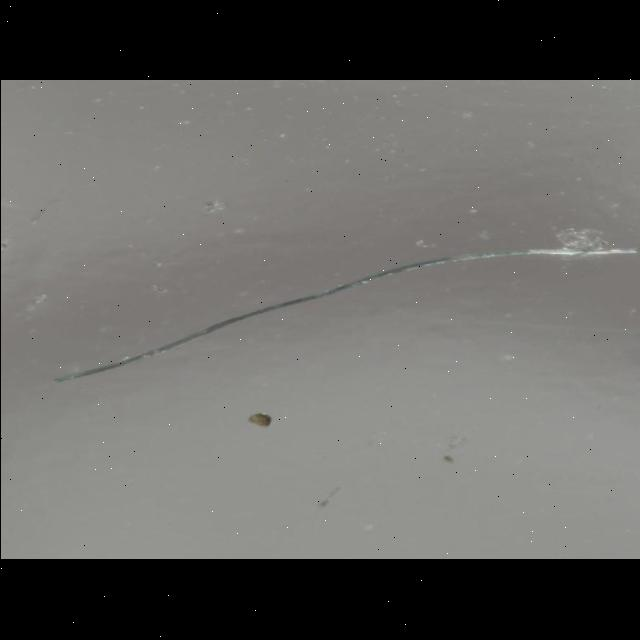Fibre: (52, 240, 640, 386)
